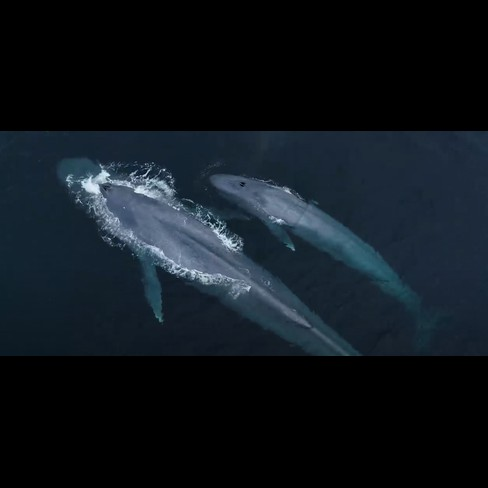bluewhale: (52, 152, 384, 357), (205, 169, 460, 348)
